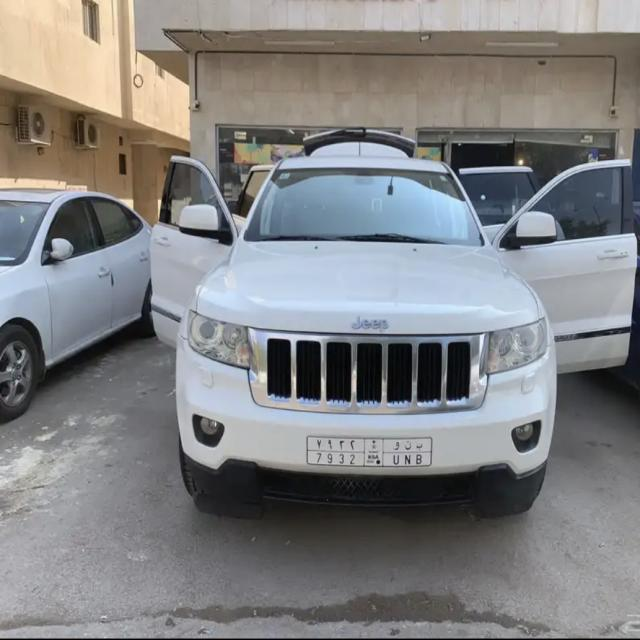license_plate: (306, 434, 434, 472)
